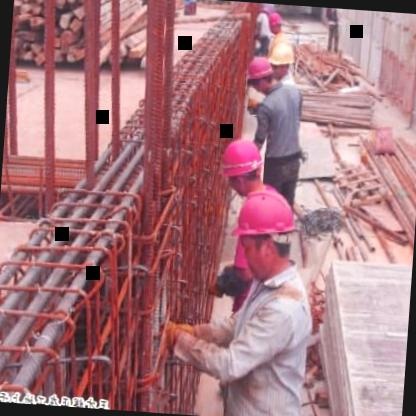helmet: (228, 180, 303, 284), (218, 134, 268, 203), (243, 50, 278, 93), (268, 39, 298, 84), (266, 9, 284, 38)
